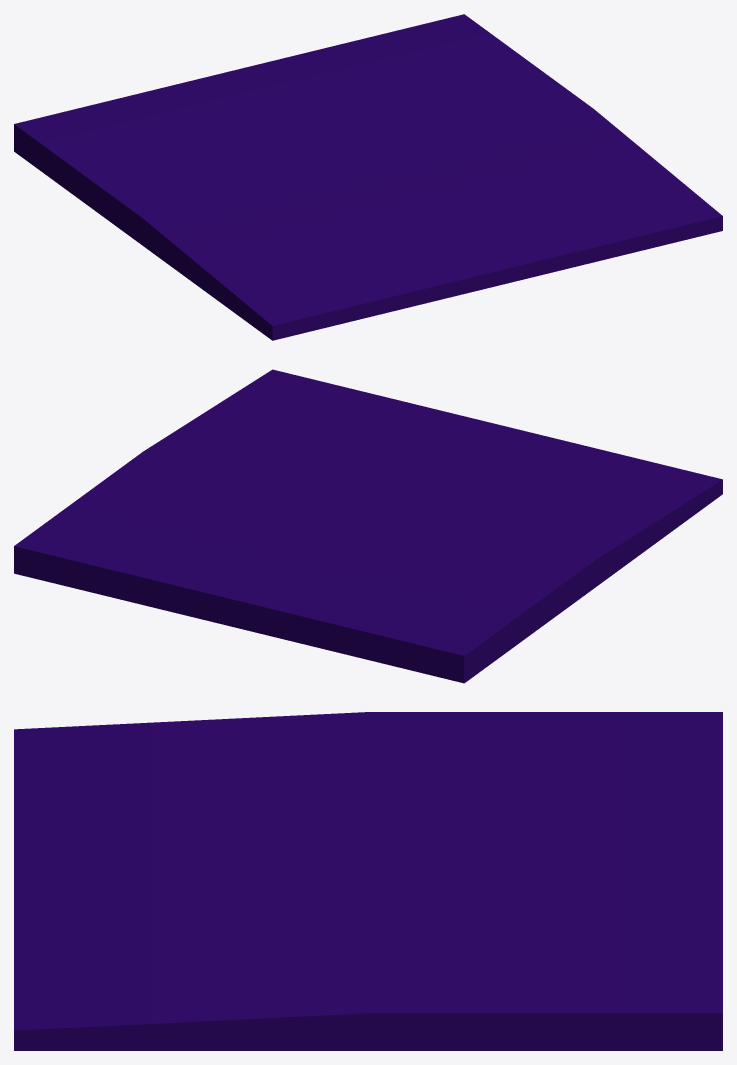
The model's file is 3D_STALDAK_001.FBX.
The picture shows the model from 3 angles, top to bottom: view 1: azimuth 30°, elevation 25°; view 2: azimuth 150°, elevation 25°; view 3: azimuth 270°, elevation 25°; orthographic projection. The views are drawn at different scales.
Visible parts, largest first — view 1: 3D_STALDAK_001; view 2: 3D_STALDAK_001; view 3: 3D_STALDAK_001.
Part boxes in pixels (x1=…): 3D_STALDAK_001: x1=14, y1=14, x2=722, y2=340; 3D_STALDAK_001: x1=14, y1=369, x2=722, y2=683; 3D_STALDAK_001: x1=14, y1=712, x2=722, y2=1050.
Bounding box in the file's own units: 786 × 45.82 × 782.
